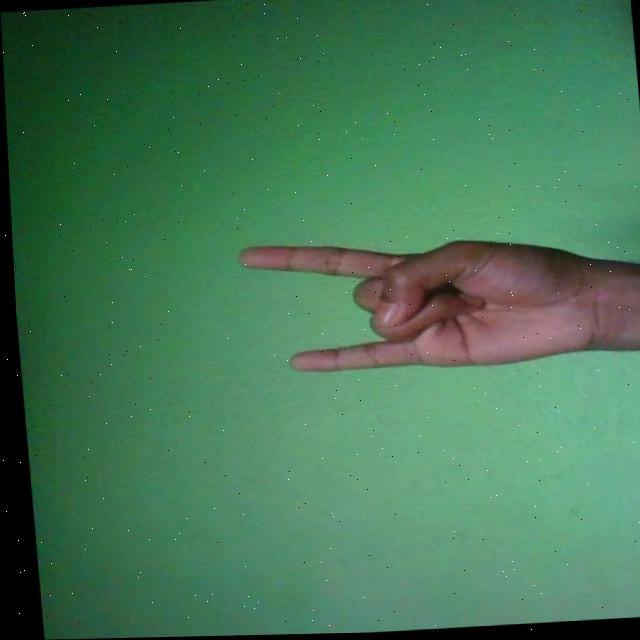Rock On: (233, 227, 610, 381)
